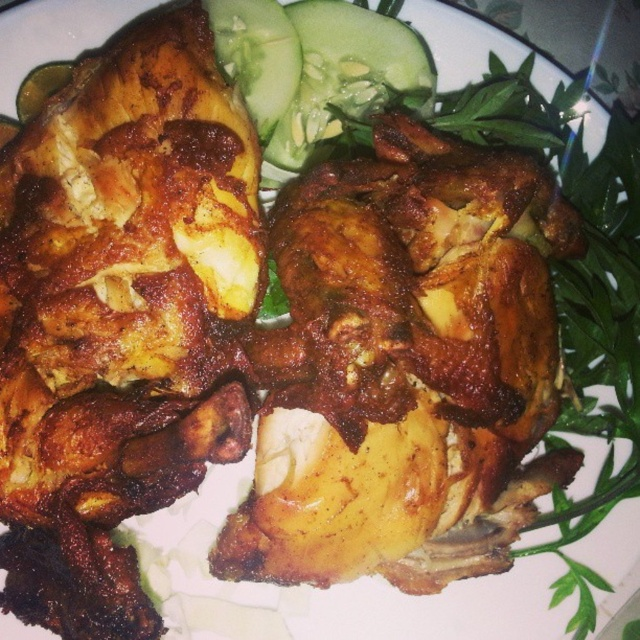Chicken: (2, 1, 585, 640)
